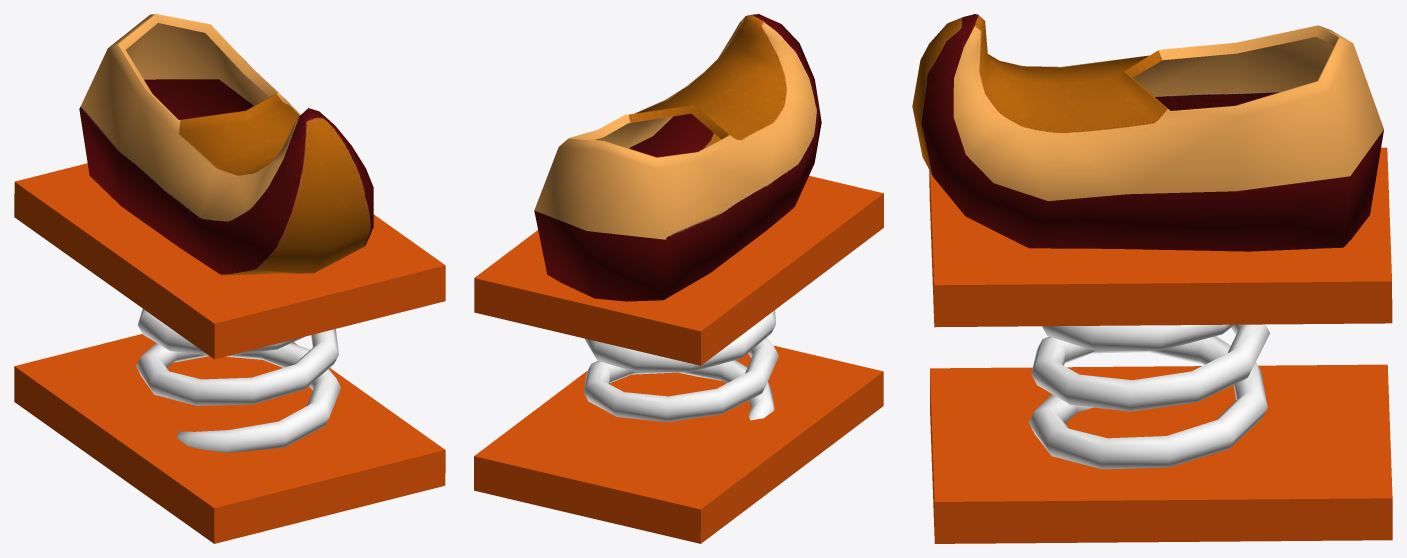
The model's file is spring shoe.fbx.
3 renders of one model, left to right at view 1: azimuth 30°, elevation 25°; view 2: azimuth 150°, elevation 25°; view 3: azimuth 270°, elevation 25°, orthographic. The views are drawn at different scales.
Parts seen in each view (by area): view 1: polySurface10; view 2: polySurface10; view 3: polySurface10.
Boxes of the visible parts, bbox=[...] form: polySurface10: bbox=[14, 14, 445, 543]; polySurface10: bbox=[474, 14, 883, 543]; polySurface10: bbox=[912, 14, 1392, 543].
Size of the model in its own units: 1.74 by 2.74 by 2.59.
Materials: 3 (1 with a texture image).
